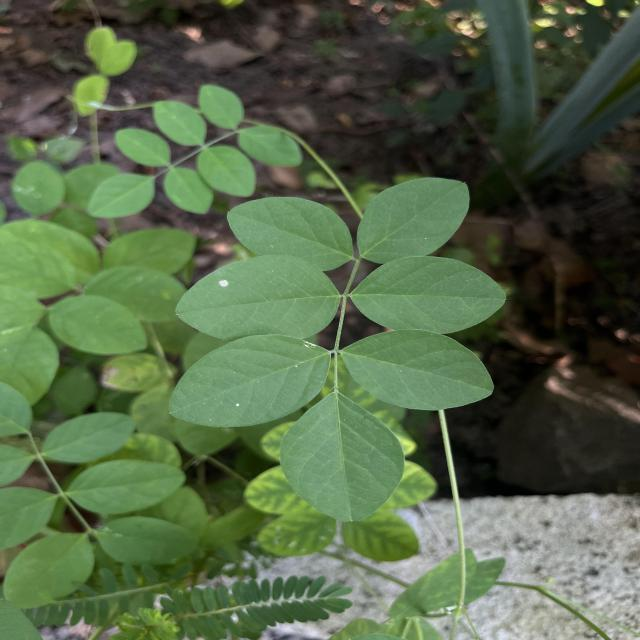Clitoria ternatea: (279, 389, 407, 524), (167, 333, 332, 429), (174, 254, 343, 342), (348, 255, 510, 335), (341, 328, 497, 411), (356, 176, 471, 265), (226, 196, 356, 270)
